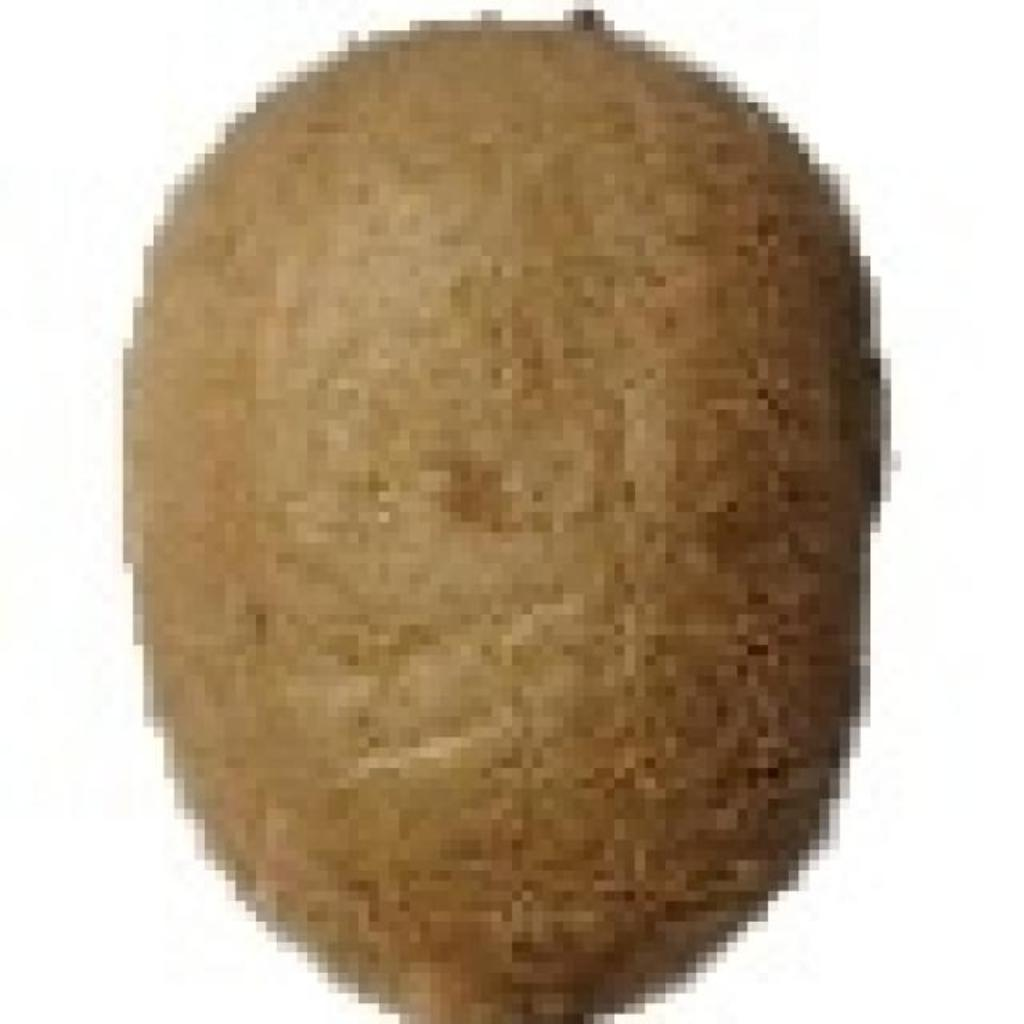kiwi: (113, 10, 860, 1004)
